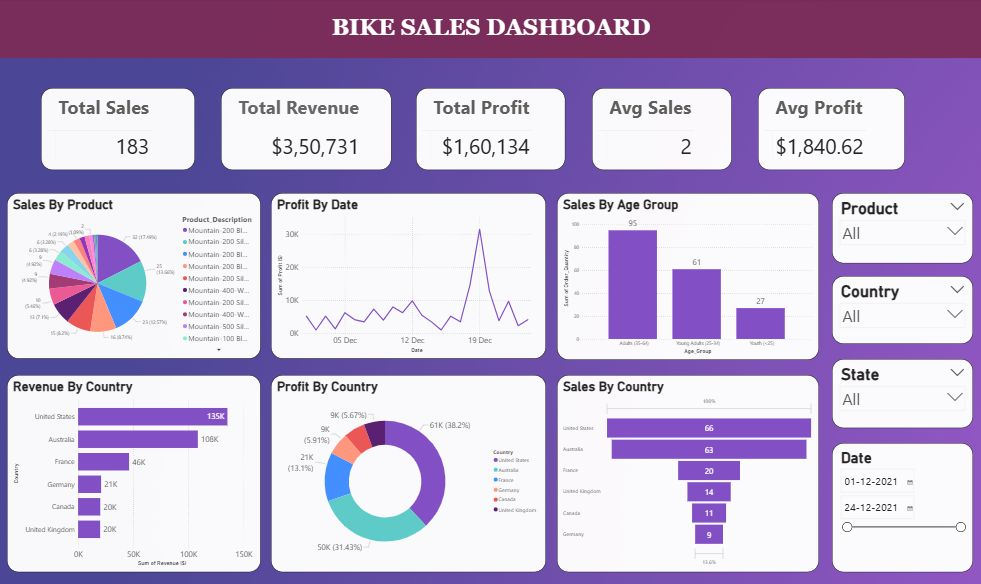

The dashboard page shown, as its layout file describes it:
{"tool":"powerbi","page":{"name":"Page 1","canvas":[2500,1500],"ordinal":0},"visuals":[{"type":"pieChart","title":"Sales By Product","fields":{"Category":["Dim Product.Product_Description"],"Y":["Sum(Fact Bike Sales.Order_Quantity)"]},"box":[17.9,496.4,645.9,421.7],"z":0},{"type":"textbox","box":[0,0,2500,152.5],"z":1000},{"type":"lineChart","title":"Profit By Date","fields":{"Category":["Fact Bike Sales.Date"],"Y":["Sum(Fact Bike Sales.Profit ($))"]},"box":[690.8,496.4,699.8,421.7],"z":2000},{"type":"barChart","title":"Revenue By Country","fields":{"Category":["Dim Geography.Country"],"Y":["Sum(Fact Bike Sales.Revenue ($))"]},"box":[17.9,959.9,645.9,502.4],"z":3000},{"type":"donutChart","title":"Profit By Country","fields":{"Category":["Fact Bike Sales.Country"],"Y":["Sum(Fact Bike Sales.Profit ($))"]},"box":[690.8,959.9,699.8,502.4],"z":4000},{"type":"columnChart","title":"Sales By Age Group","fields":{"Category":["Fact Bike Sales.Age_Group"],"Y":["Sum(Fact Bike Sales.Order_Quantity)"]},"box":[1417.5,496.4,666.9,424.6],"z":5000},{"type":"funnel","title":"Sales By Country","fields":{"Category":["Fact Bike Sales.Country"],"Y":["Sum(Fact Bike Sales.Order_Quantity)"]},"box":[1417.5,959.9,666.9,502.4],"z":6000},{"type":"pivotTable","fields":{"Values":["Fact Bike Sales.Total_Sales"]},"box":[104.7,230.3,391.7,209.3],"z":7000},{"type":"pivotTable","title":"Hello","fields":{"Values":["Fact Bike Sales.Total Revenue"]},"box":[562.2,230.3,433.6,209.3],"z":8000},{"type":"pivotTable","fields":{"Values":["Fact Bike Sales.Total Profit"]},"box":[1058.6,230.3,379.8,209.3],"z":9000},{"type":"pivotTable","fields":{"Values":["Fact Bike Sales.Avg Sales"]},"box":[1507.2,230.3,355.9,209.3],"z":10000},{"type":"pivotTable","fields":{"Values":["Fact Bike Sales.Avg Profit"]},"box":[1928.8,230.3,373.8,209.3],"z":11000},{"type":"slicer","fields":{"Values":["Dim Product.Product_Description"]},"box":[2117.2,496.4,358.9,179.4],"z":12000},{"type":"slicer","fields":{"Values":["Fact Bike Sales.Country"]},"box":[2117.2,708.7,358.9,173.4],"z":13000},{"type":"slicer","fields":{"Values":["Fact Bike Sales.Date"]},"box":[2117.2,1133.4,358.9,328.9],"z":14000},{"type":"slicer","fields":{"Values":["Dim Geography.State"]},"box":[2117.2,918.1,358.9,176.4],"z":15000}]}

Visuals, with their boxes in screenshot pixels (x1, y1, x2, y2), scaled from the page's 2500x1500 canvas onto the 981x584 screenshot:
"Sales By Product" pieChart: rect(7, 193, 260, 357)
textbox: rect(0, 0, 980, 59)
"Profit By Date" lineChart: rect(271, 193, 546, 357)
"Revenue By Country" barChart: rect(7, 374, 260, 569)
"Profit By Country" donutChart: rect(271, 374, 546, 569)
"Sales By Age Group" columnChart: rect(556, 193, 818, 359)
"Sales By Country" funnel: rect(556, 374, 818, 569)
pivotTable - Fact Bike Sales.Total_Sales: rect(41, 90, 195, 171)
"Hello" pivotTable: rect(221, 90, 391, 171)
pivotTable - Fact Bike Sales.Total Profit: rect(415, 90, 564, 171)
pivotTable - Fact Bike Sales.Avg Sales: rect(591, 90, 731, 171)
pivotTable - Fact Bike Sales.Avg Profit: rect(757, 90, 904, 171)
slicer - Dim Product.Product_Description: rect(831, 193, 972, 263)
slicer - Fact Bike Sales.Country: rect(831, 276, 972, 343)
slicer - Fact Bike Sales.Date: rect(831, 441, 972, 569)
slicer - Dim Geography.State: rect(831, 357, 972, 426)
